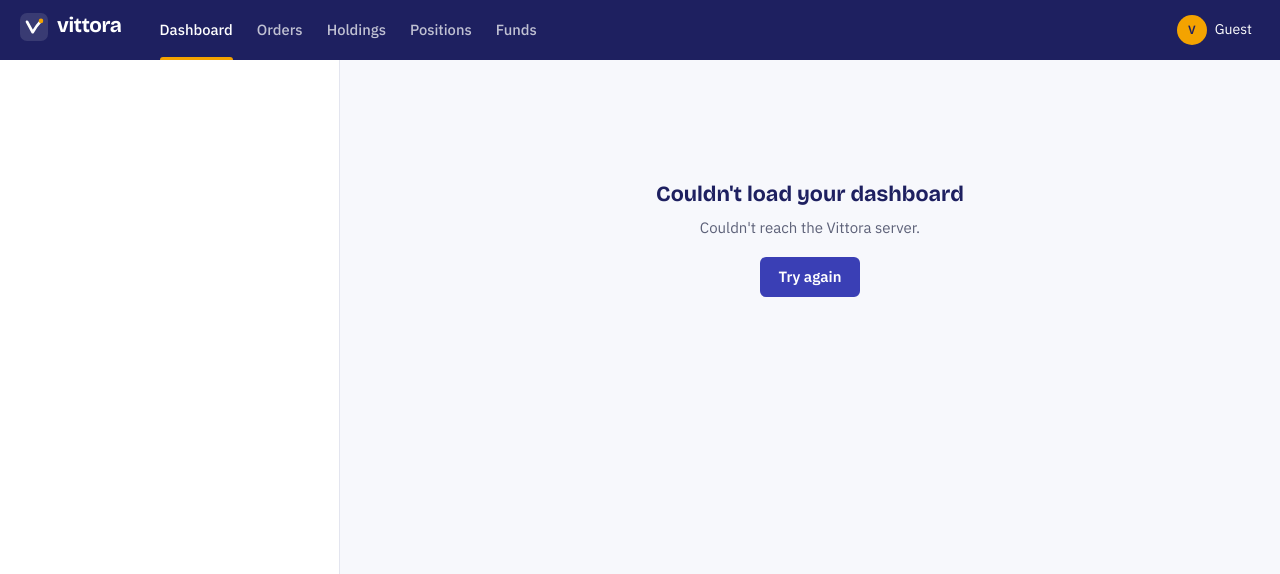
a failed load shows the reason and a retry button
Expected: the heading "Couldn't load your dashboard" is shown, [656, 182, 964, 208]
Click the button "Try again" at coordinates (810, 277), box [760, 257, 860, 297]
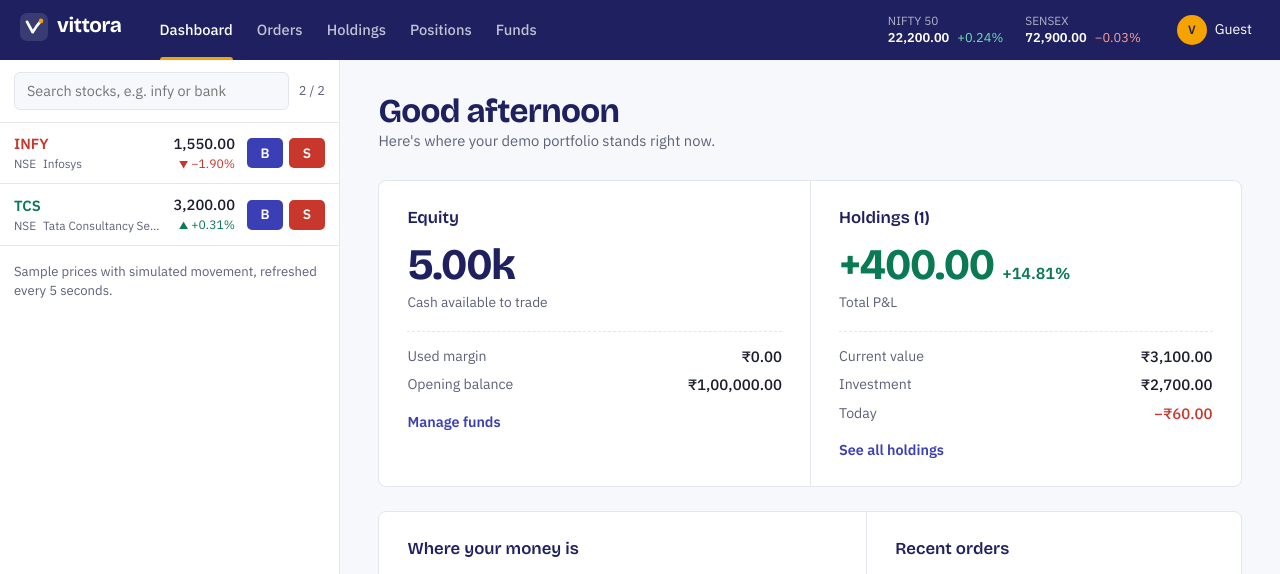
Now the heading "Holdings (1)" is shown, box [839, 207, 930, 228]
